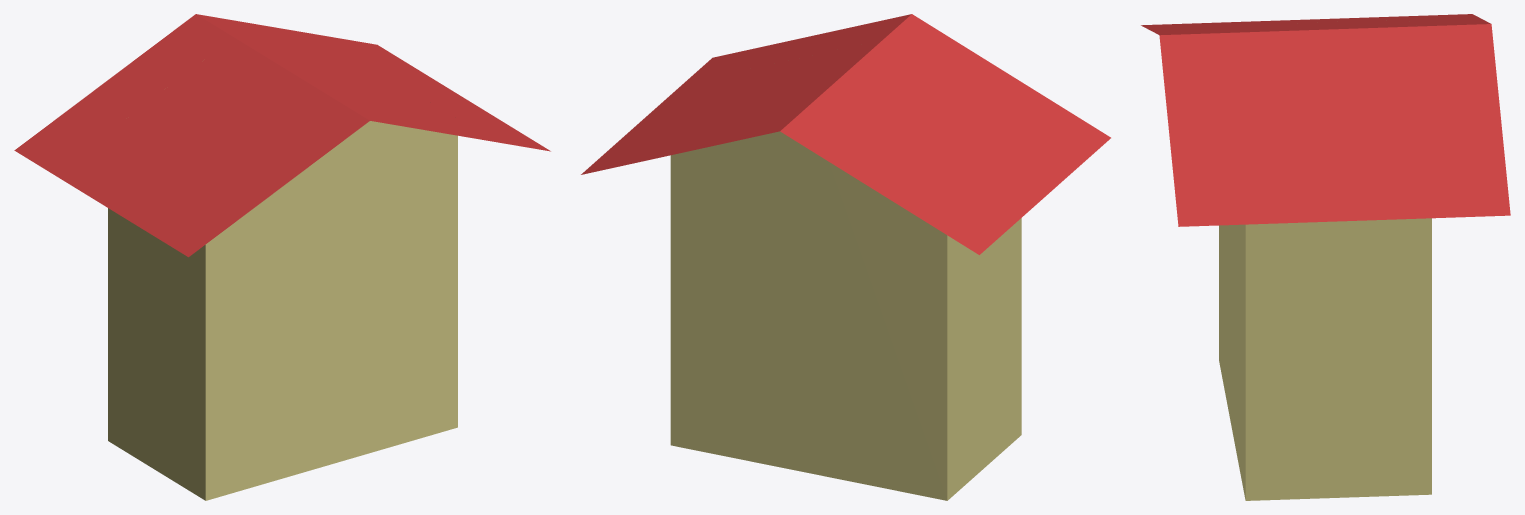
3 views of the same model, side by side, from view 1: azimuth 30°, elevation 25°; view 2: azimuth 150°, elevation 25°; view 3: azimuth 270°, elevation 25° (orthographic). The views are drawn at different scales.
Parts seen in each view (by area): view 1: group_5, group_3, group_4; view 2: group_5, group_3, group_4; view 3: group_5, group_3, group_4.
Part boxes in pixels (left/top/right/bottom): group_5: left=108, top=121, right=457, bottom=500; group_3: left=15, top=14, right=549, bottom=257; group_4: left=14, top=14, right=550, bottom=227; group_5: left=670, top=131, right=1021, bottom=500; group_3: left=581, top=14, right=1110, bottom=254; group_4: left=709, top=14, right=1060, bottom=254; group_5: left=1219, top=218, right=1431, bottom=500; group_3: left=1141, top=14, right=1510, bottom=226; group_4: left=1159, top=14, right=1490, bottom=226.
Size of the model in its own units: 13.76 by 10.12 by 12.01.
